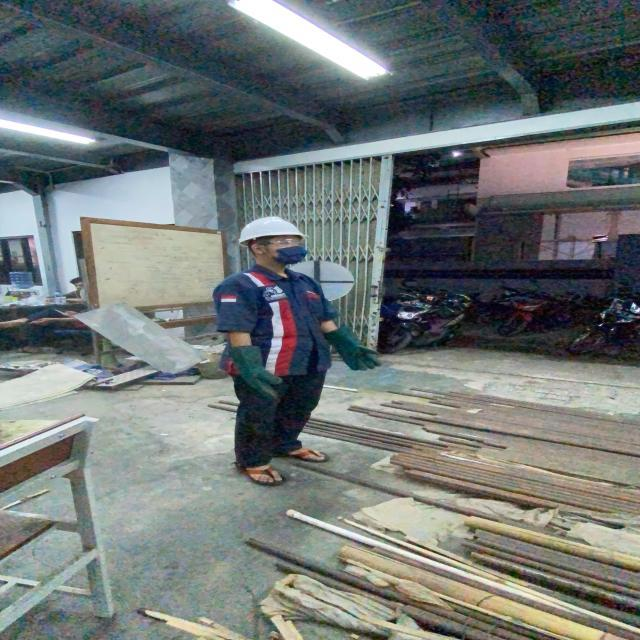glasses: (254, 236, 308, 247)
